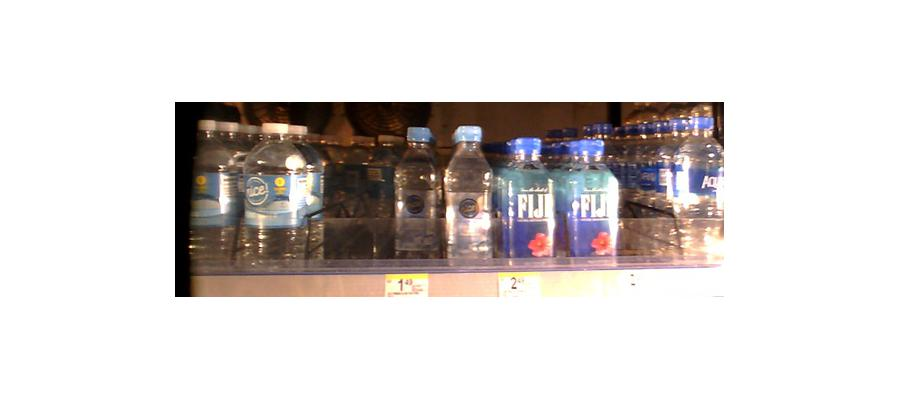bottle: (240, 112, 318, 265), (319, 123, 385, 266), (624, 108, 682, 261), (557, 135, 622, 260), (186, 110, 238, 265), (393, 123, 445, 263), (498, 137, 556, 262), (444, 124, 495, 266), (679, 109, 727, 259)
